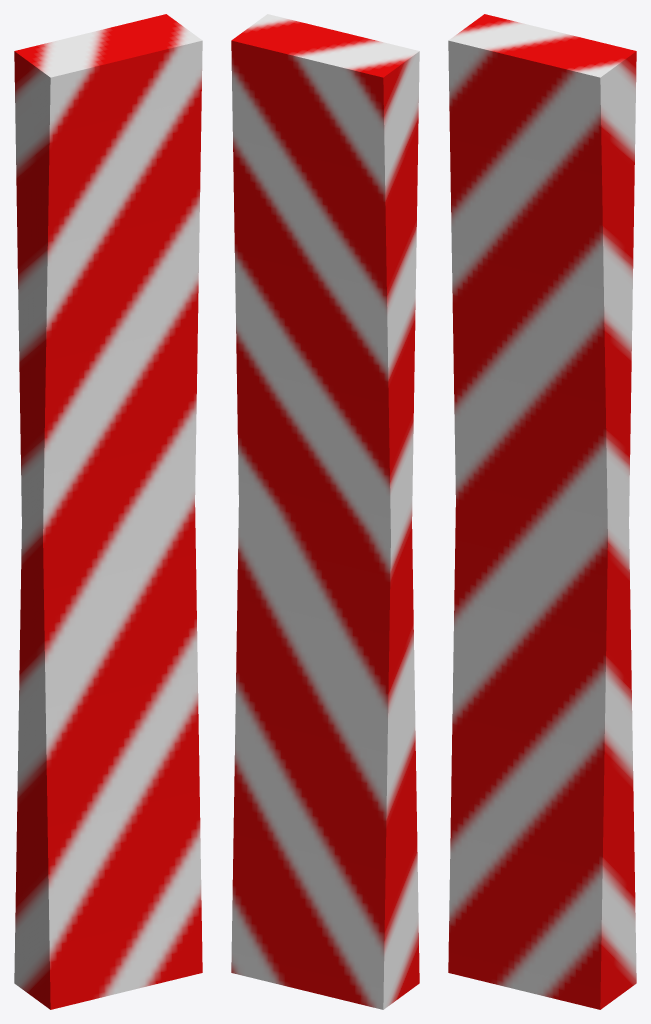
File: SM_Beam.fbx
The picture shows the model from 3 angles, left to right: view 1: azimuth 30°, elevation 25°; view 2: azimuth 150°, elevation 25°; view 3: azimuth 330°, elevation 25°; orthographic projection.
Visible parts, largest first — view 1: SM_Beam; view 2: SM_Beam; view 3: SM_Beam.
Part boxes in pixels (x1,y1,x2,y2): SM_Beam: (14, 14, 202, 1009); SM_Beam: (231, 14, 419, 1009); SM_Beam: (448, 14, 636, 1009).
Size of the model in its own units: 1 by 5.86 by 0.4133.
